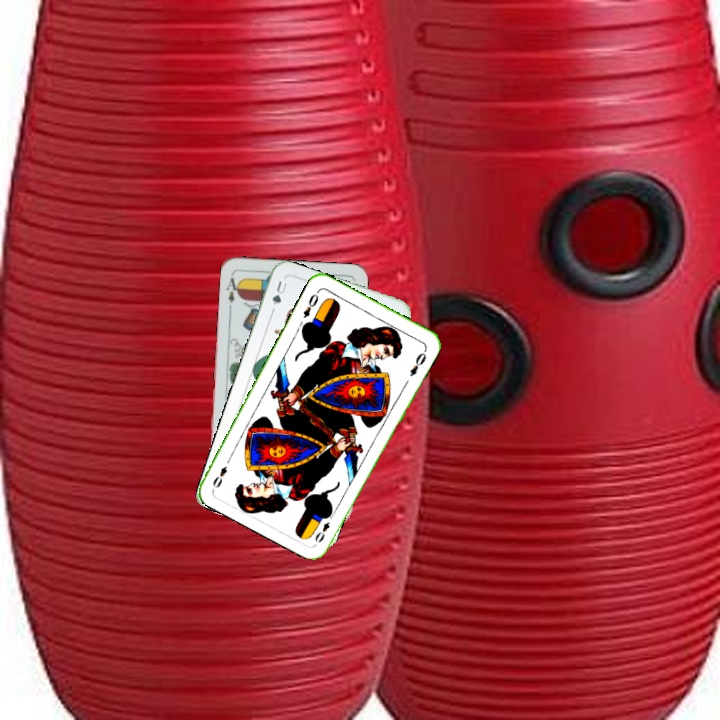EA: (222, 271, 242, 311)
EO: (299, 290, 321, 321), (311, 518, 332, 545)
GU: (268, 277, 289, 308)
